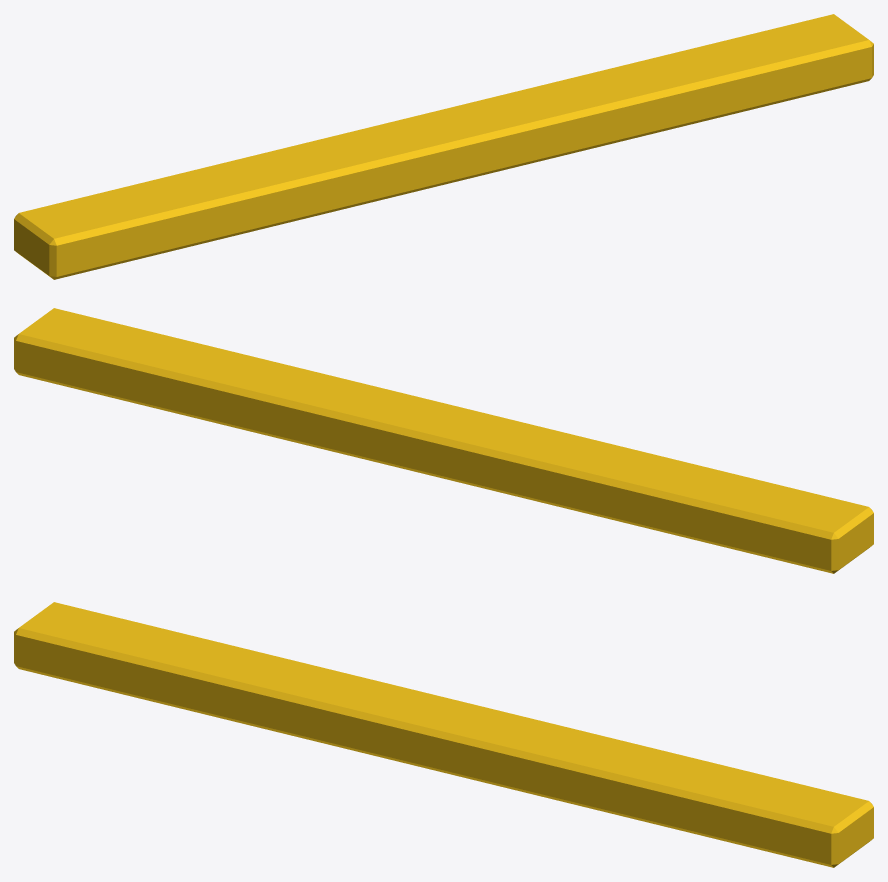
Rendered from narrow_beam.glb.
3 views of the same model, one above another, from view 1: azimuth 30°, elevation 25°; view 2: azimuth 150°, elevation 25°; view 3: azimuth 330°, elevation 25° (orthographic).
Parts seen in each view (by area): view 1: narrow_beam; view 2: narrow_beam; view 3: narrow_beam.
Boxes of the visible parts, x1,y1,x2,y2 form: narrow_beam: [14, 14, 873, 279]; narrow_beam: [14, 308, 873, 573]; narrow_beam: [14, 602, 873, 867].
Size of the model in its own units: 1.05 by 0.05 by 0.09.
